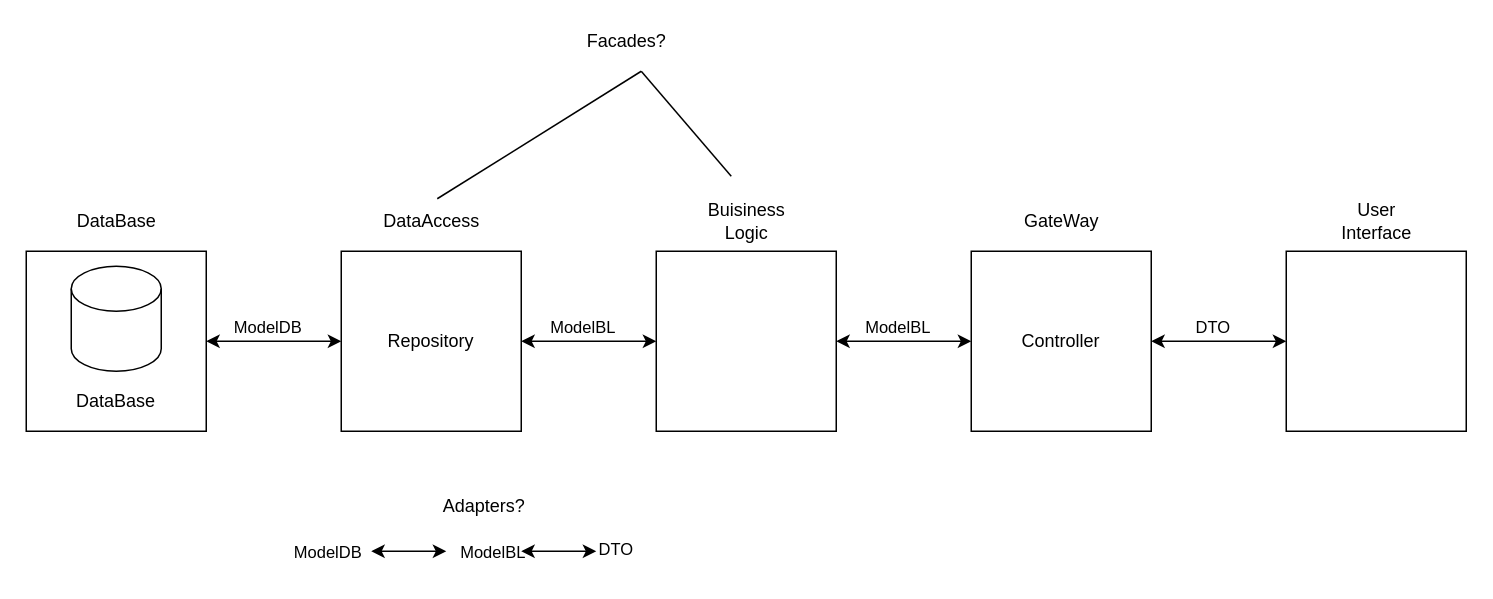
The diagram is 1493 pixels wide and 599 high, and some of its shapes have lost their labels. Here are the shapes that lost their labels. From the top down, the centre of each, then its label:
At point (745, 340): "Предметная область".
At point (1375, 340): "TelegramBot".
